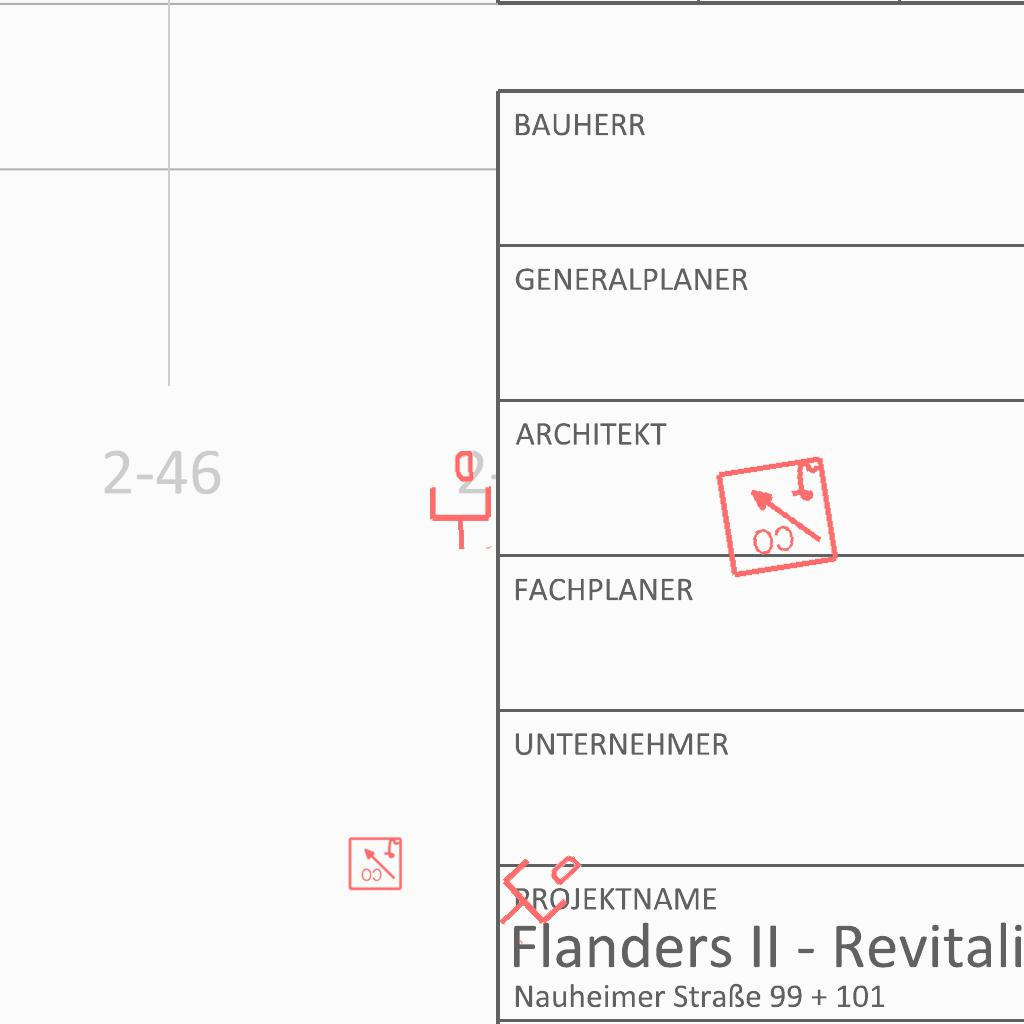Datenanschluss_einfach: (476, 830, 597, 950), (425, 450, 496, 552)
ROA_Rauchmelder_optisch_mit_Signalgeber_(Sockelsirene): (711, 450, 842, 581), (347, 835, 403, 891)
